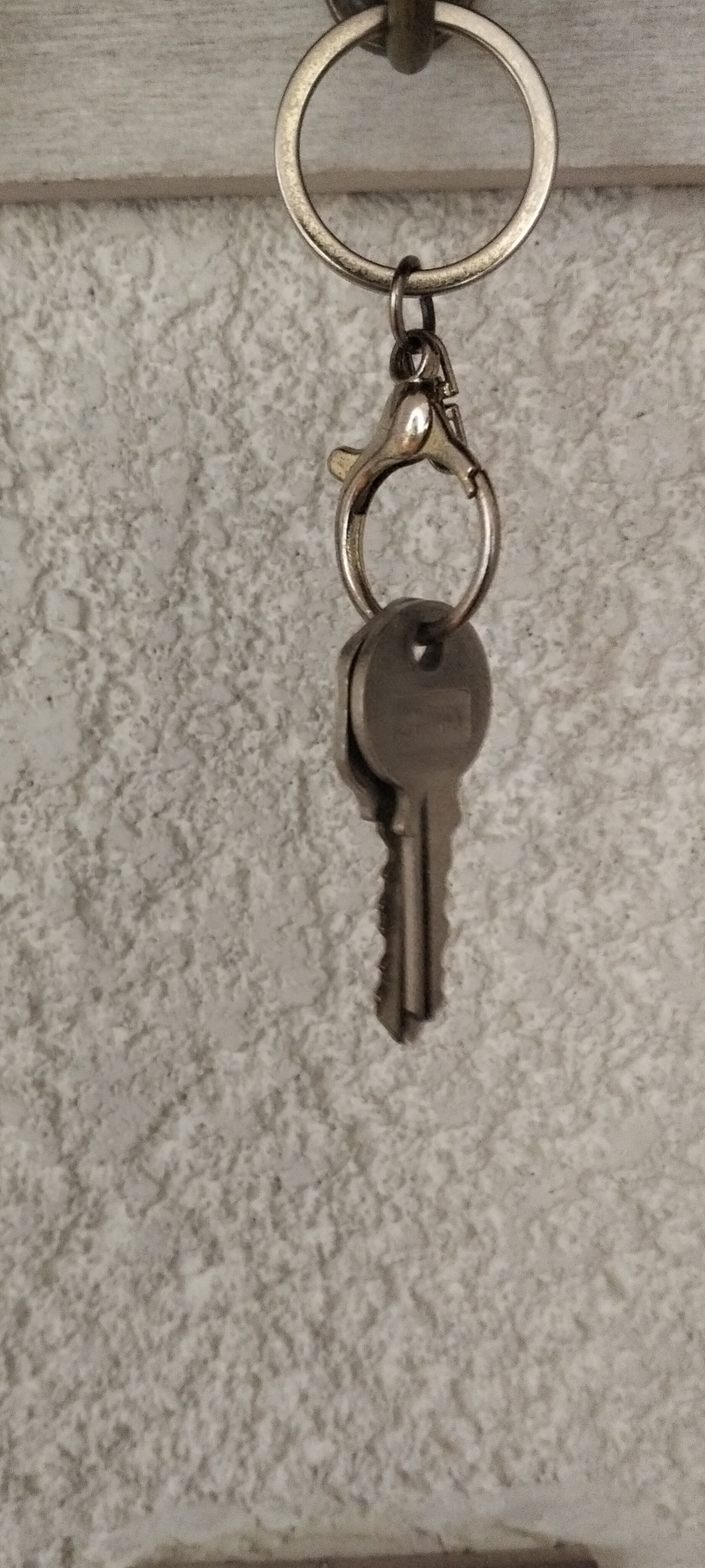llaves: (159, 26, 643, 1065)
